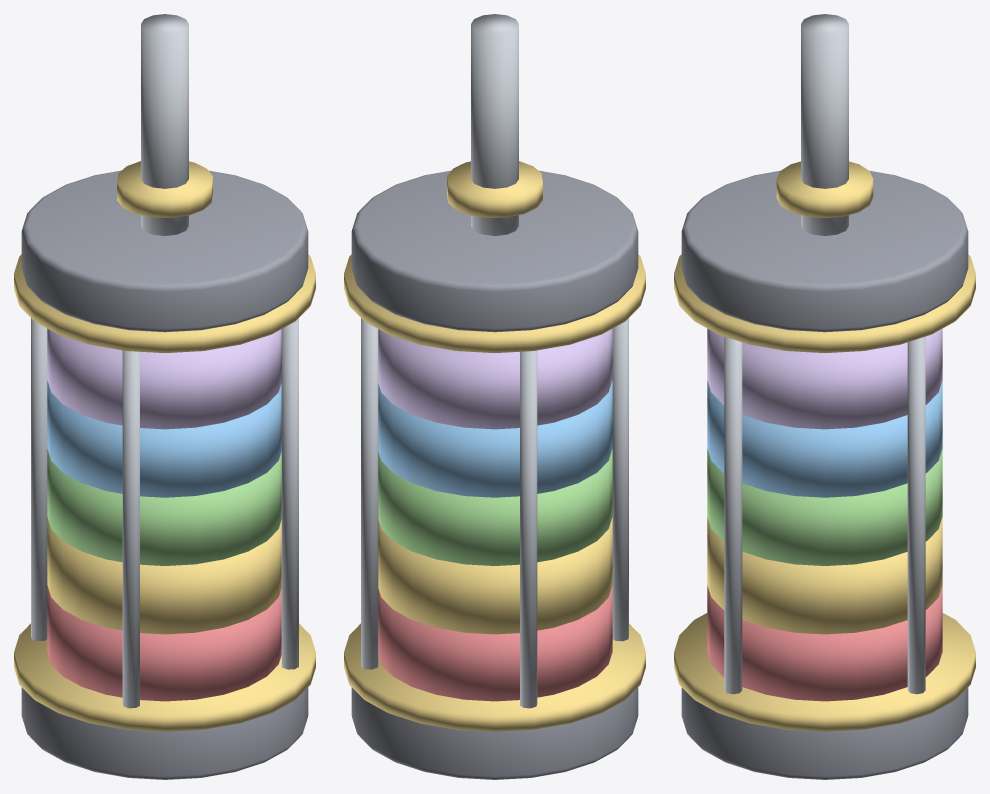
File: fx_tank.glb
The picture shows the model from 3 angles, left to right: view 1: azimuth 30°, elevation 25°; view 2: azimuth 150°, elevation 25°; view 3: azimuth 270°, elevation 25°; orthographic projection.
Visible parts, largest first — view 1: fx_tank; view 2: fx_tank; view 3: fx_tank.
Boxes of the visible parts, box(x1,y1,x2,y2) form: fx_tank: box(14, 14, 315, 779); fx_tank: box(344, 14, 645, 779); fx_tank: box(674, 14, 975, 779).
Size of the model in its own units: 2 by 5.1 by 2.
